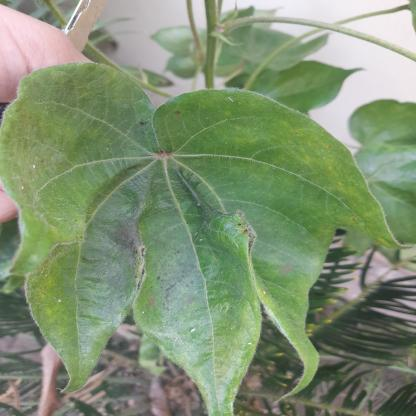curl_stage1: (233, 125, 356, 191), (11, 121, 84, 213), (34, 73, 129, 120), (27, 276, 83, 340), (202, 291, 263, 345), (266, 279, 327, 326), (202, 347, 248, 395)
sooty: (124, 104, 202, 181), (176, 182, 267, 246), (102, 216, 162, 282), (150, 276, 207, 332)
